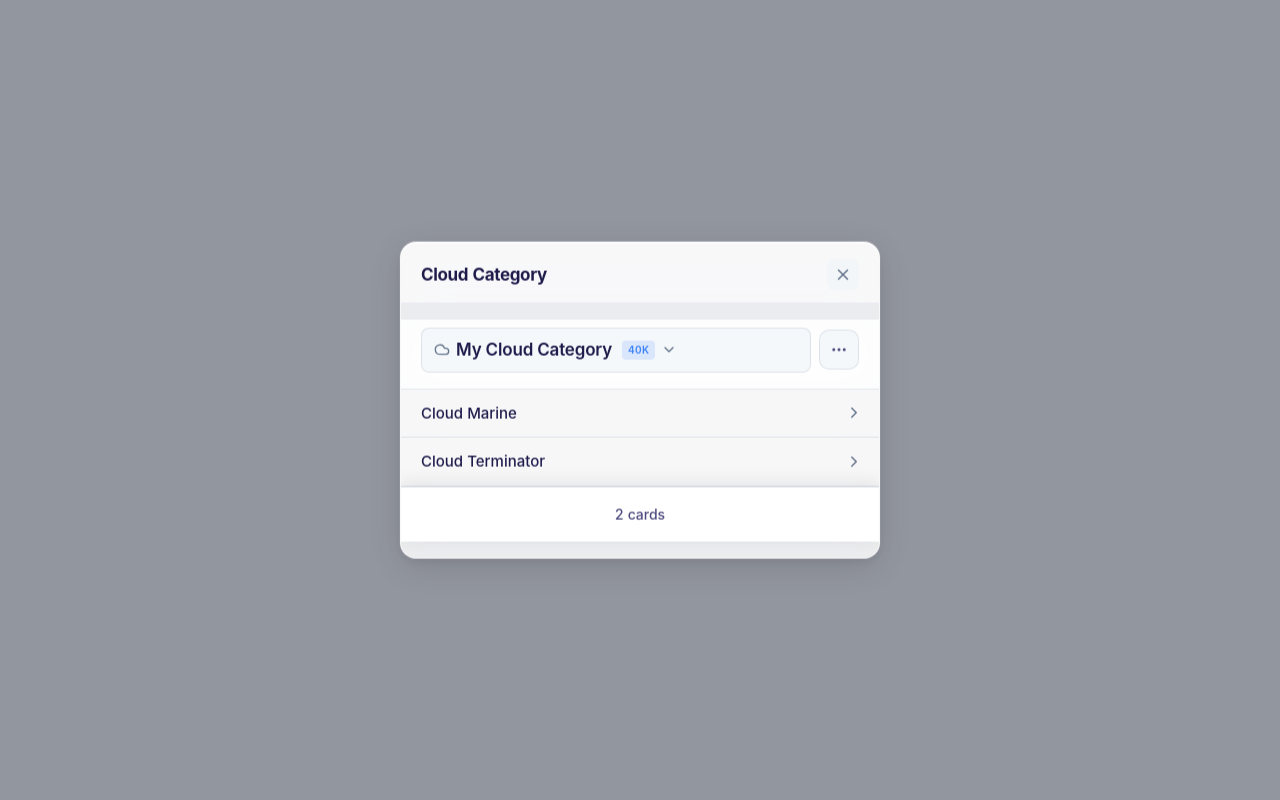
ListOverview sharing › offers Share List for a cloud category
This screenshot has width=1280, height=800.
Click the button with class "list-overview-more-button" at (839, 350), box [819,330,859,370]
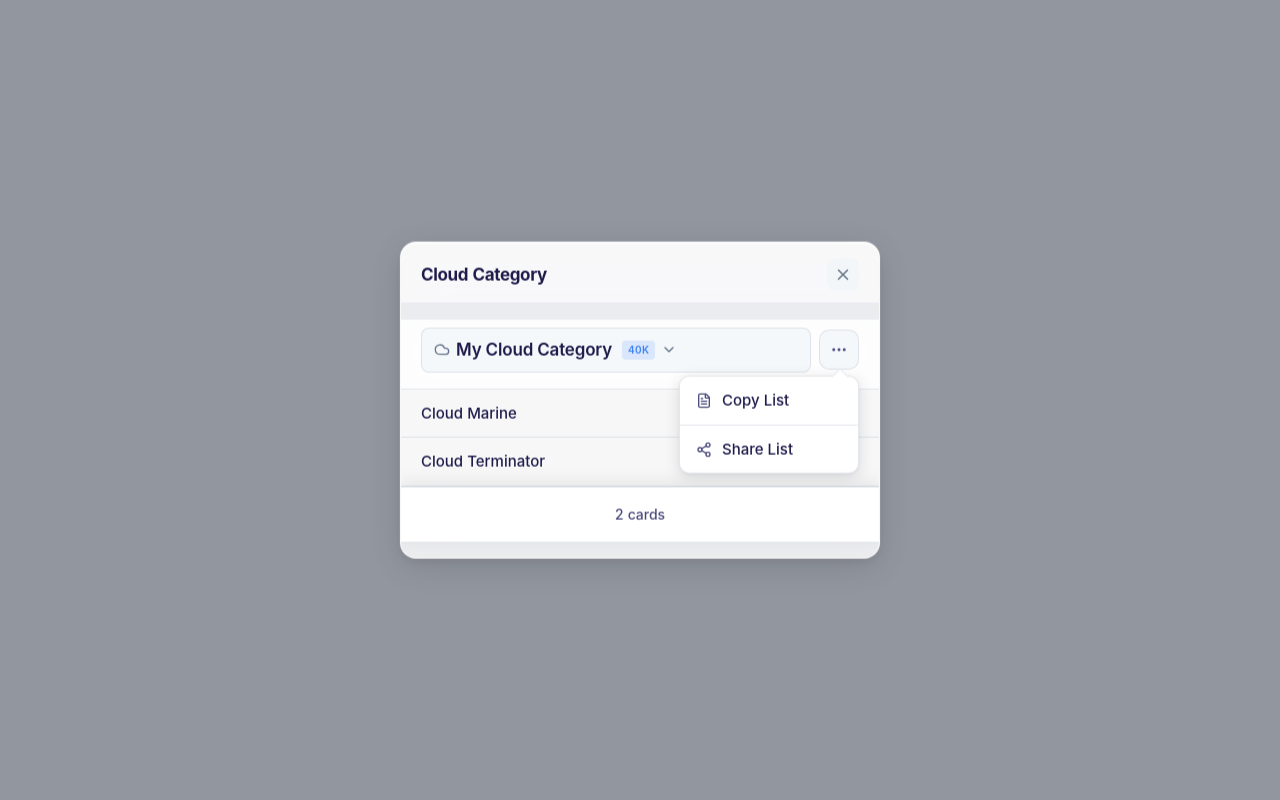
Expected: the text "Share List" is shown, [722,438,793,461]
